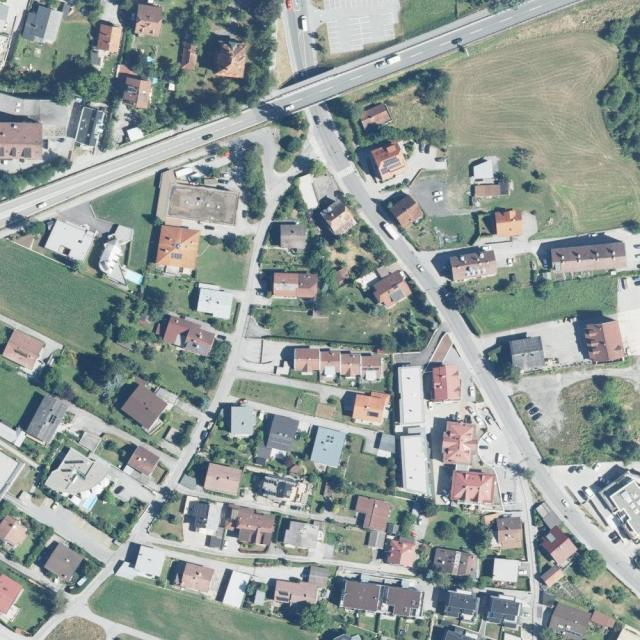building: (154, 168, 242, 235), (43, 440, 119, 515), (292, 346, 385, 385), (340, 579, 424, 619), (118, 380, 175, 435), (598, 470, 640, 544), (99, 465, 158, 517), (44, 213, 99, 265), (549, 240, 627, 276), (220, 503, 278, 551), (23, 393, 71, 449), (161, 314, 218, 359), (154, 224, 200, 277), (96, 223, 134, 286), (368, 267, 415, 313), (1, 328, 48, 373), (582, 318, 627, 365), (537, 524, 581, 569), (260, 472, 313, 508), (21, 2, 63, 47), (43, 542, 86, 585), (180, 496, 225, 537), (400, 434, 430, 495), (431, 546, 482, 581), (396, 365, 425, 425), (449, 249, 499, 283), (449, 470, 497, 505), (309, 426, 348, 469), (369, 141, 409, 182), (319, 197, 359, 238), (350, 389, 390, 428), (352, 495, 393, 533), (508, 335, 547, 374), (388, 192, 426, 231), (195, 283, 235, 320), (442, 421, 476, 464), (74, 106, 108, 148), (266, 413, 300, 453), (204, 462, 243, 496), (215, 39, 248, 79), (0, 512, 32, 552), (341, 581, 381, 613), (126, 444, 162, 479), (486, 593, 522, 627), (273, 580, 319, 606), (133, 545, 167, 580), (122, 75, 155, 111), (0, 574, 24, 622), (272, 273, 318, 298), (283, 521, 321, 551), (444, 589, 480, 620), (386, 535, 420, 567), (180, 563, 214, 594), (95, 20, 125, 55), (432, 365, 460, 402), (135, 2, 163, 38), (496, 516, 524, 550), (357, 103, 392, 130), (493, 208, 523, 238), (230, 406, 256, 438), (491, 557, 520, 585), (469, 156, 499, 183), (538, 563, 566, 589), (1, 451, 19, 491), (280, 224, 306, 251), (372, 432, 398, 459), (588, 609, 617, 633), (178, 41, 201, 71), (307, 564, 331, 589), (78, 430, 102, 453), (440, 626, 481, 639), (472, 184, 501, 199), (366, 530, 386, 551)
dryland: (486, 0, 640, 49)
greenland: (254, 284, 441, 366), (0, 238, 124, 357), (465, 272, 621, 336), (91, 269, 191, 367), (489, 140, 578, 250), (90, 176, 183, 278), (2, 9, 101, 86), (27, 356, 127, 426), (598, 11, 640, 164), (127, 86, 243, 136), (64, 333, 140, 408), (577, 374, 640, 462), (400, 0, 524, 39), (425, 501, 500, 560), (82, 480, 148, 545), (297, 232, 347, 316), (0, 498, 56, 572), (321, 88, 380, 156), (176, 337, 242, 397), (137, 265, 201, 321), (321, 450, 397, 497), (126, 350, 205, 395), (359, 66, 450, 105), (191, 239, 254, 293), (228, 138, 268, 219), (202, 418, 259, 472), (71, 360, 127, 413), (11, 434, 60, 488), (120, 46, 182, 85), (351, 222, 397, 272), (131, 16, 182, 61), (363, 123, 448, 150), (175, 68, 240, 103), (322, 522, 376, 564), (234, 61, 278, 111), (274, 111, 309, 173), (58, 541, 106, 584), (567, 543, 611, 586), (149, 487, 184, 541), (553, 576, 597, 618), (435, 278, 481, 318), (274, 179, 312, 224), (344, 451, 389, 488), (202, 228, 252, 257), (281, 603, 331, 632), (259, 246, 309, 272), (347, 253, 379, 286), (491, 272, 524, 302), (411, 492, 441, 521), (286, 427, 314, 457), (110, 0, 139, 28), (142, 286, 168, 312), (529, 273, 555, 299), (396, 509, 416, 536), (276, 450, 296, 469), (1, 324, 13, 354), (310, 160, 326, 177), (146, 309, 160, 323), (631, 549, 640, 566)
metalled_road: (266, 0, 578, 119), (214, 218, 289, 407), (293, 101, 380, 230), (4, 476, 121, 567), (161, 550, 303, 604), (244, 123, 299, 222), (513, 474, 548, 605), (164, 411, 214, 491), (76, 543, 131, 607), (236, 369, 342, 400), (295, 414, 373, 437), (128, 502, 157, 545), (248, 402, 282, 414)
